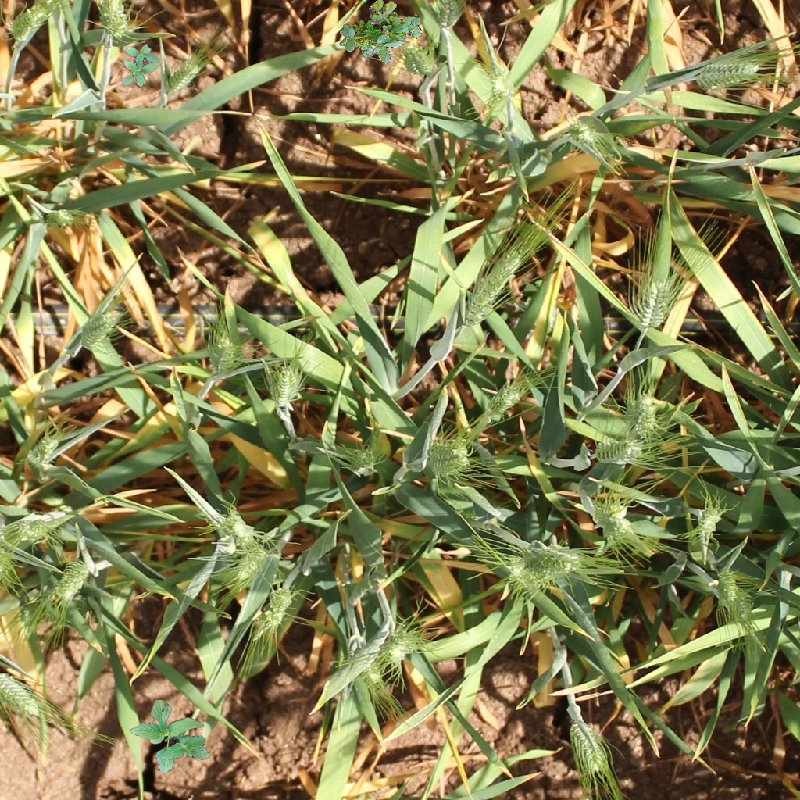spikelet: (465, 252, 521, 324), (514, 543, 577, 581), (568, 719, 608, 774), (1, 669, 42, 718), (567, 119, 613, 160), (714, 567, 751, 617), (694, 58, 759, 86), (8, 1, 51, 43), (422, 439, 470, 476), (258, 585, 294, 634), (16, 509, 68, 542), (214, 509, 255, 550), (484, 380, 524, 422), (638, 278, 669, 330), (76, 309, 118, 347), (52, 560, 89, 603), (593, 500, 631, 540), (163, 56, 202, 94), (383, 625, 421, 663), (270, 364, 302, 407), (97, 1, 130, 42), (594, 436, 642, 464), (630, 395, 659, 441), (25, 433, 62, 469), (208, 332, 238, 373), (693, 505, 722, 545), (400, 40, 433, 75), (236, 546, 267, 580), (712, 568, 739, 605), (348, 446, 380, 477), (432, 1, 462, 29), (488, 67, 514, 99)
weed: (333, 1, 428, 72), (130, 700, 210, 774), (122, 44, 160, 88)
